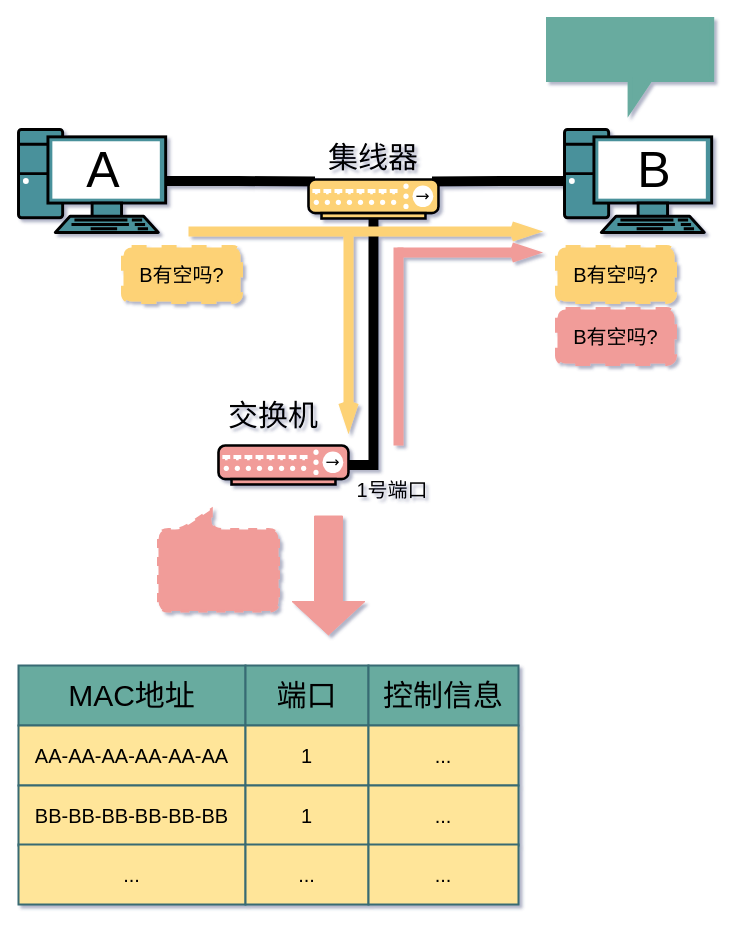
The diagram is 737 pixels wide and 929 high, and some of its shapes have lost their labels. The centre of each missing label's shape, as x and y in pixels:
"B在1号端口，转发给它" goes at [218,560].
"为什么问两次???" goes at [630,64].
